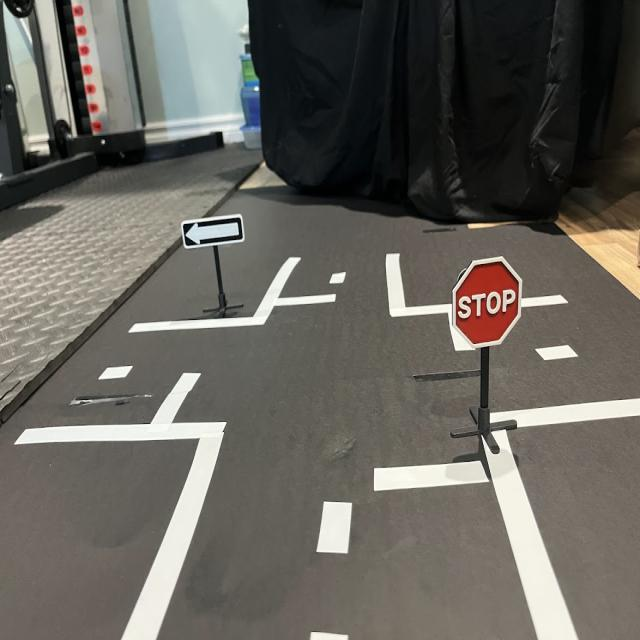sign_oneway_left: (181, 211, 248, 254)
sign_stop: (454, 260, 523, 345)
